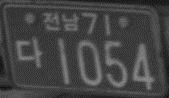0: (75, 38, 104, 87)
1: (56, 36, 71, 86), (102, 12, 112, 37)
4: (129, 42, 156, 92)
5: (103, 39, 129, 89)
7: (80, 10, 99, 37)
다: (14, 35, 43, 69)
전남_O: (41, 10, 80, 32)
